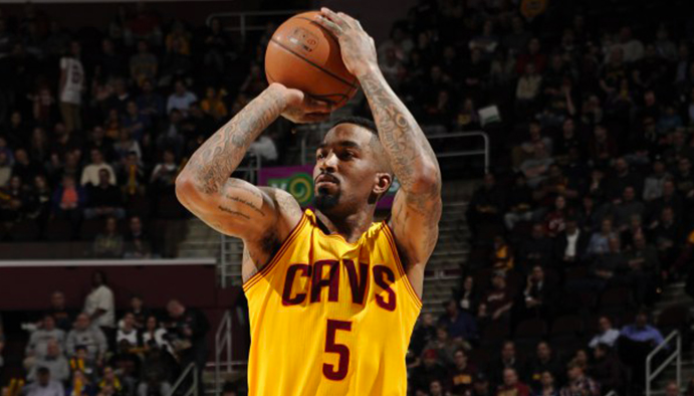Basketball: (262, 9, 362, 114)
